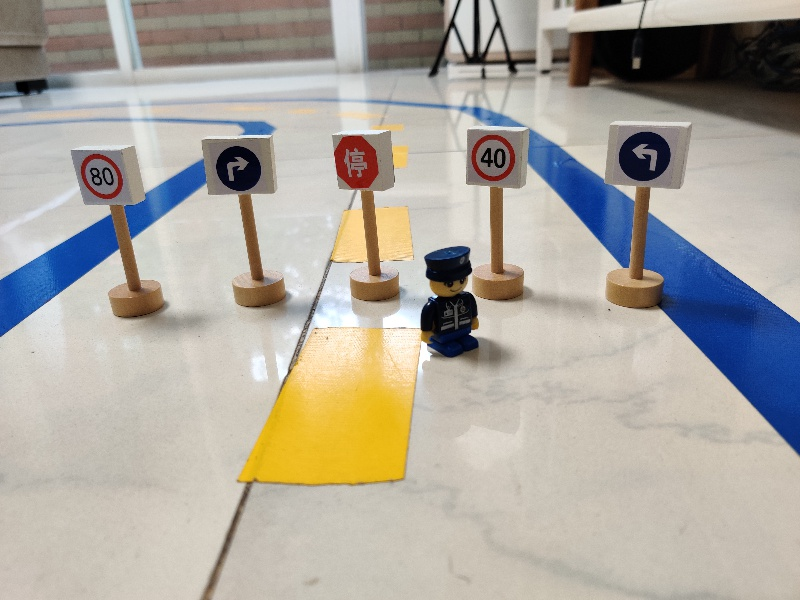limit_40: (461, 123, 530, 190)
limit_80: (65, 142, 147, 209)
person: (416, 244, 484, 359)
stop: (328, 128, 397, 192)
turn_left: (604, 118, 693, 190)
turn_right: (199, 131, 278, 198)
